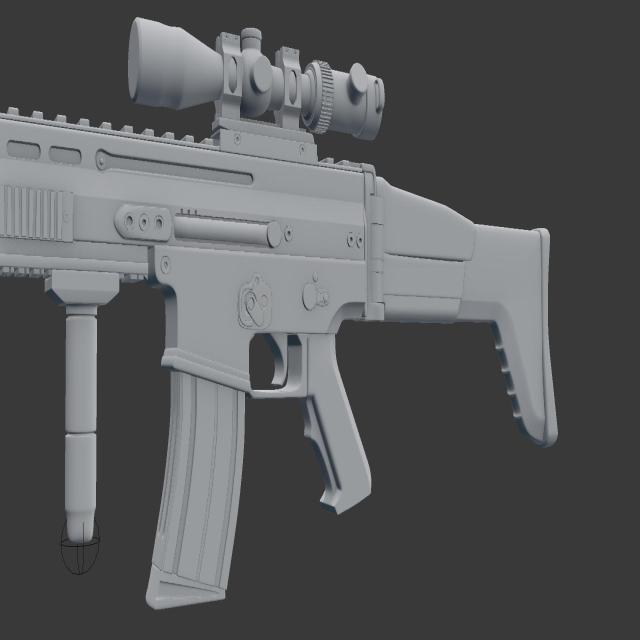Gun: (19, 17, 591, 614)
